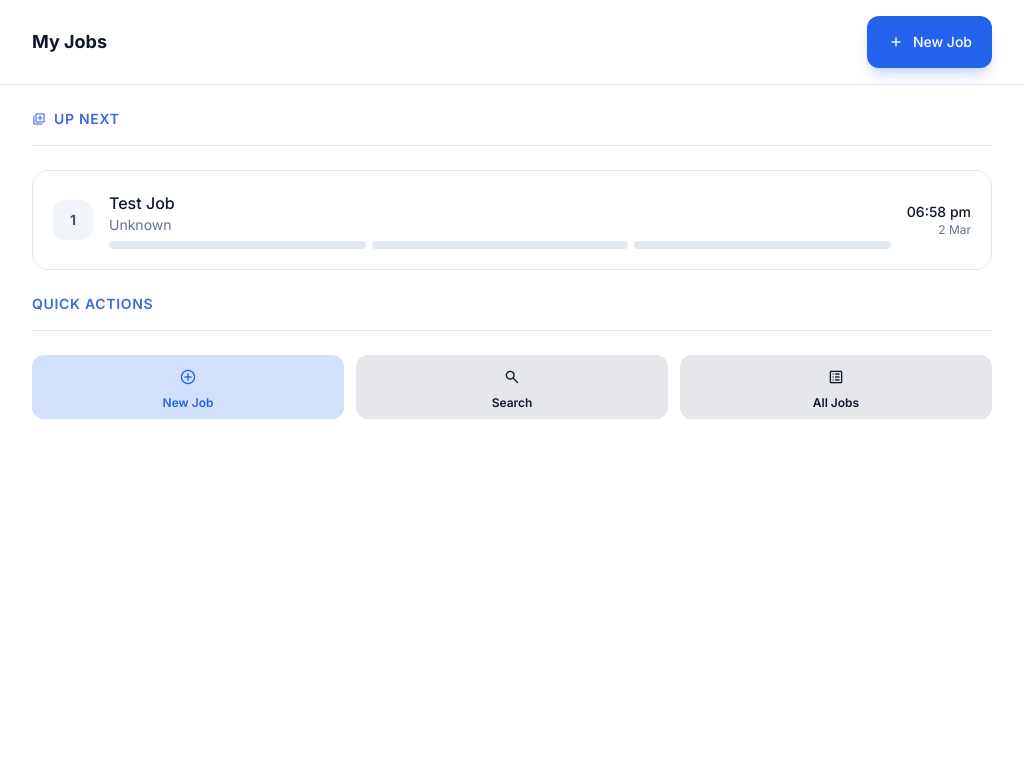
Test: SoloContractorDashboard - Integration › Search Modal › opens QuickSearchModal when search button clicked
Click the button with aria-label "Search jobs" at (512, 387), box [356,355,668,419]
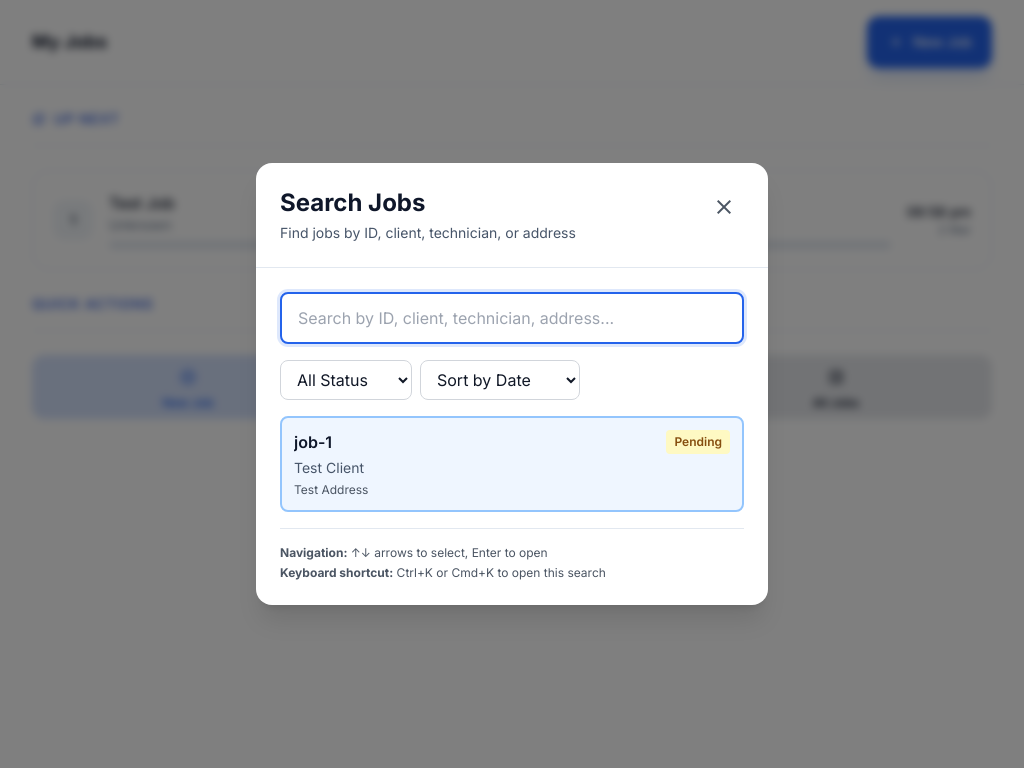
Now the dialog "Search Jobs" is shown, box [256,163,768,605]
